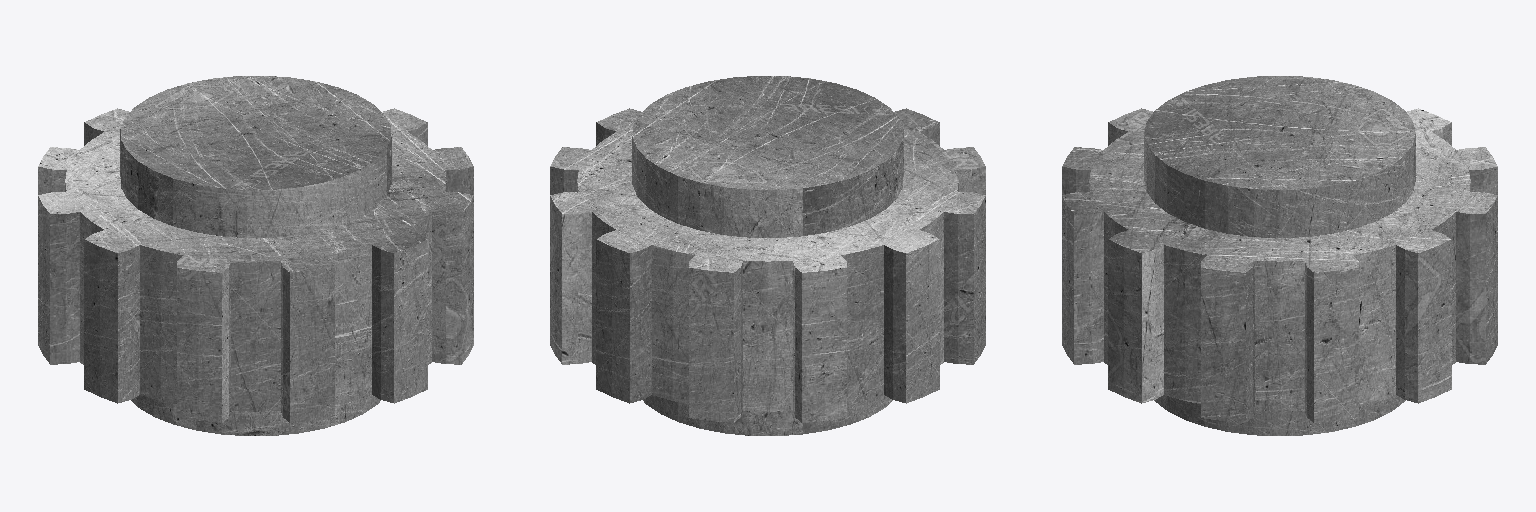
3 views of the same model, side by side, from view 1: azimuth 30°, elevation 25°; view 2: azimuth 150°, elevation 25°; view 3: azimuth 270°, elevation 25° (orthographic).
Parts seen in each view (by area): view 1: Gear.002, Cilindro; view 2: Gear.002, Cilindro; view 3: Gear.002, Cilindro.
Boxes of the visible parts, x1,y1,x2,y2 form: Gear.002: [38, 108, 473, 422]; Cilindro: [120, 76, 391, 435]; Gear.002: [550, 108, 985, 422]; Cilindro: [632, 76, 903, 435]; Gear.002: [1062, 108, 1497, 422]; Cilindro: [1144, 76, 1415, 435].
Size of the model in its own units: 1.97 by 1.23 by 1.97.
2 materials, 1 textured.